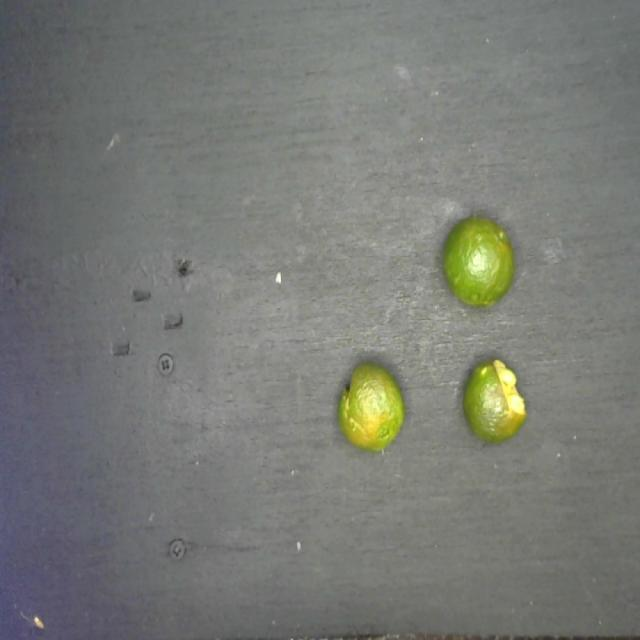biodegradable: (335, 211, 528, 454)
